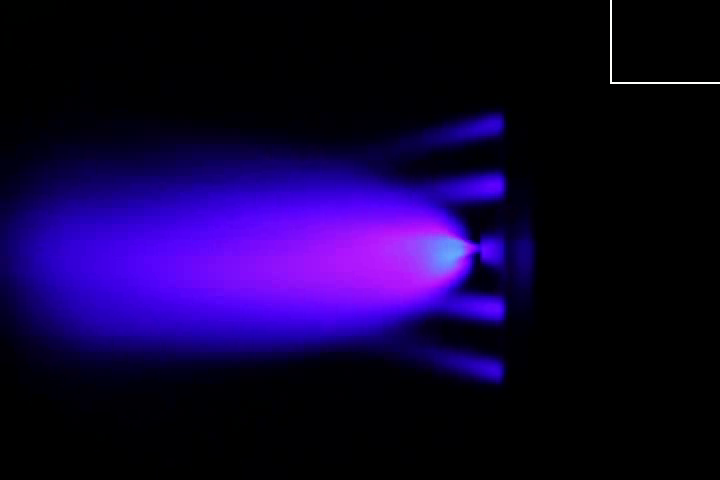burner cap: (480, 238, 505, 271)
pilot flame: (409, 111, 507, 155), (401, 348, 502, 381), (402, 174, 505, 204), (444, 294, 505, 324)
stable: (326, 217, 479, 293)
